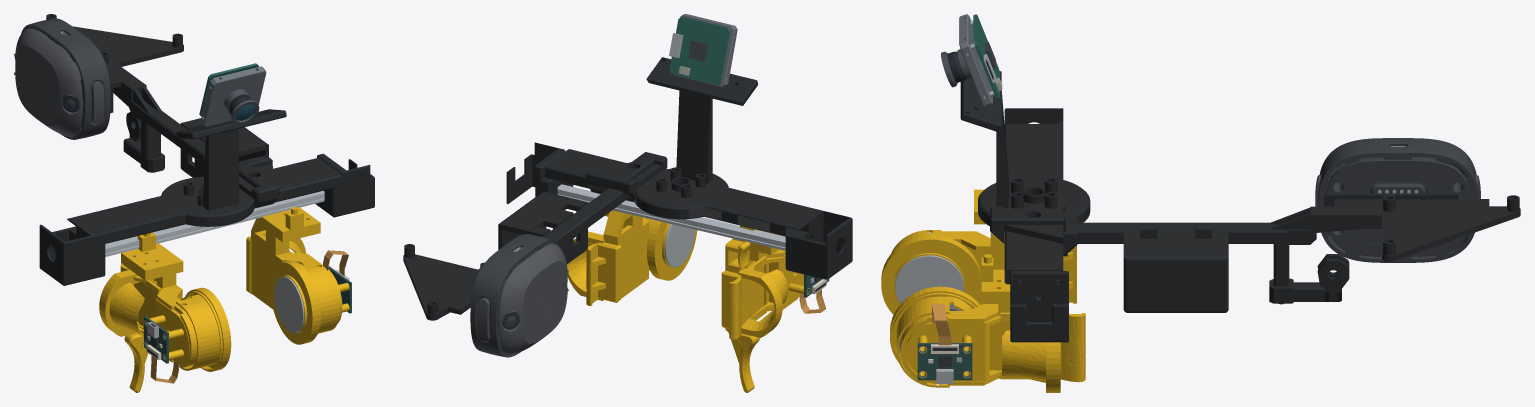
Rendered from aetherock-parallel-v1.glb.
3 renders of one model, left to right at view 1: azimuth 30°, elevation 25°; view 2: azimuth 150°, elevation 25°; view 3: azimuth 270°, elevation 25°, orthographic. The views are drawn at different scales.
Visible parts, largest first — view 1: Parallel Gripper Frame, VIVE Ultimate Tracker, Forearm Support, Right Tactile Back Cover, Left Jaw and Trigger, Right Jaw and Trigger, Hikrobot MV CB060 Camera, Parallel Gripper Side Cover, Right Optical Shroud, Linear Guide Rail, Left Gel Retainer Ring, Left Optical Shroud (+8 smaller); view 2: Parallel Gripper Frame, Forearm Support, VIVE Ultimate Tracker, Right Tactile Back Cover, Hikrobot MV CB060 Camera, Left Tactile Back Cover, Left Jaw and Trigger, Linear Guide Rail, Right Jaw and Trigger, Parallel Gripper Side Cover, Left Gel Retainer Ring, Left Tactile Contact Surface; view 3: Forearm Support, Parallel Gripper Frame, VIVE Ultimate Tracker, Left Tactile Back Cover, Parallel Gripper Side Cover, Hikrobot MV CB060 Camera, Right Gel Retainer Ring, Left Jaw and Trigger, Forearm Pivot Arm, Left OV5647 USB Adapter PCB, Right Tactile Contact Surface, Left Optical Shroud (+5 smaller).
Boxes of the visible parts, bbox=[...] form: Parallel Gripper Frame: bbox=[39, 109, 341, 285]; VIVE Ultimate Tracker: bbox=[14, 18, 110, 139]; Forearm Support: bbox=[46, 14, 279, 208]; Right Tactile Back Cover: bbox=[99, 264, 189, 364]; Left Jaw and Trigger: bbox=[251, 207, 342, 323]; Right Jaw and Trigger: bbox=[121, 232, 197, 392]; Hikrobot MV CB060 Camera: bbox=[199, 63, 266, 126]; Parallel Gripper Side Cover: bbox=[315, 153, 374, 217]; Right Optical Shroud: bbox=[176, 291, 222, 370]; Linear Guide Rail: bbox=[105, 191, 324, 256]; Left Gel Retainer Ring: bbox=[270, 260, 319, 344]; Left Optical Shroud: bbox=[278, 262, 339, 334]; Parallel Gripper Frame: bbox=[545, 57, 852, 279]; Forearm Support: bbox=[403, 152, 667, 320]; VIVE Ultimate Tracker: bbox=[470, 234, 568, 357]; Right Tactile Back Cover: bbox=[721, 255, 803, 339]; Hikrobot MV CB060 Camera: bbox=[669, 14, 737, 87]; Left Tactile Back Cover: bbox=[567, 231, 620, 306]; Left Jaw and Trigger: bbox=[603, 210, 648, 298]; Linear Guide Rail: bbox=[557, 184, 785, 250]; Right Jaw and Trigger: bbox=[725, 225, 797, 392]; Parallel Gripper Side Cover: bbox=[506, 142, 573, 203]; Left Gel Retainer Ring: bbox=[647, 220, 697, 280]; Left Tactile Contact Surface: bbox=[664, 224, 695, 267]; Forearm Support: bbox=[990, 193, 1520, 312]; Parallel Gripper Frame: bbox=[960, 71, 1090, 284]; VIVE Ultimate Tracker: bbox=[1315, 138, 1480, 262]; Left Tactile Back Cover: bbox=[906, 312, 1085, 392]; Parallel Gripper Side Cover: bbox=[1010, 271, 1068, 342]; Hikrobot MV CB060 Camera: bbox=[941, 14, 1002, 106]; Right Gel Retainer Ring: bbox=[881, 235, 981, 314]; Left Jaw and Trigger: bbox=[900, 254, 1010, 385]; Forearm Pivot Arm: bbox=[1269, 254, 1349, 303]; Left OV5647 USB Adapter PCB: bbox=[917, 343, 972, 383]; Right Tactile Contact Surface: bbox=[895, 255, 963, 303]; Left Optical Shroud: bbox=[892, 292, 975, 387].
Bounding box in the file's own units: 207 × 204 × 304.
